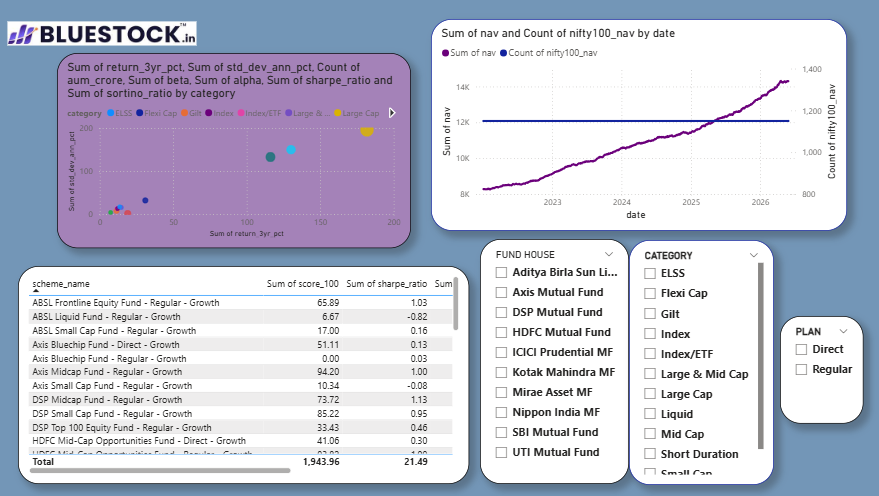

This screenshot's page, from the dashboard's own definition file:
{"tool":"powerbi","page":{"name":"Fund Performance","canvas":[1280,720],"ordinal":1},"visuals":[{"type":"scatterChart","fields":{"Y":["Sum(clean_scheme_performance.std_dev_ann_pct)"],"X":["Sum(clean_scheme_performance.return_3yr_pct)"],"Size":["CountNonNull(industry_aum.aum_crore)"],"Series":["clean_scheme_performance.category"]},"box":[87,76.8,513,282.6],"z":0},{"type":"tableEx","fields":{"Values":["fund_scorecard.scheme_name","Sum(fund_scorecard.score_100)","Sum(fund_scorecard.sharpe_ratio)","Sum(fund_scorecard.rank_3yr_return)","Sum(fund_scorecard.alpha)","Sum(fund_scorecard.max_drawdown_pct)"]},"box":[30.4,385.5,653.6,315.9],"z":1000},{"type":"lineChart","fields":{"Category":["clean_nav_history.date"],"Y":["Sum(clean_nav_history.nav)"],"Y2":["Count(nifty_benchmark.nifty100_nav)"]},"box":[629,27.5,602.9,307.2],"z":2000},{"type":"slicer","fields":{"Values":["clean_scheme_performance.fund_house"]},"box":[700.6,346.8,216.1,355.1],"z":3000},{"type":"slicer","fields":{"Values":["clean_scheme_performance.category"]},"box":[915.9,347.8,210.1,355.1],"z":4000},{"type":"slicer","fields":{"Values":["clean_scheme_performance.plan"]},"box":[1135.5,458.3,121.1,155.5],"z":5000},{"type":"image","box":[10.1,0,284.1,97.1],"z":5001}]}

Visuals, with their boxes in screenshot pixels (x1, y1, x2, y2), scaled from the page's 1280x720 canvas onto the 879x496 screenshot:
scatterChart - Sum(clean_scheme_performance.std_dev_ann_pct) x Sum(clean_scheme_performance.return_3yr_pct): BBox(60, 53, 412, 248)
tableEx - fund_scorecard.scheme_name x Sum(fund_scorecard.score_100): BBox(21, 266, 470, 483)
lineChart - clean_nav_history.date x Sum(clean_nav_history.nav): BBox(432, 19, 846, 231)
slicer - clean_scheme_performance.fund_house: BBox(481, 239, 630, 484)
slicer - clean_scheme_performance.category: BBox(629, 240, 773, 484)
slicer - clean_scheme_performance.plan: BBox(780, 316, 863, 423)
image: BBox(7, 0, 202, 67)
